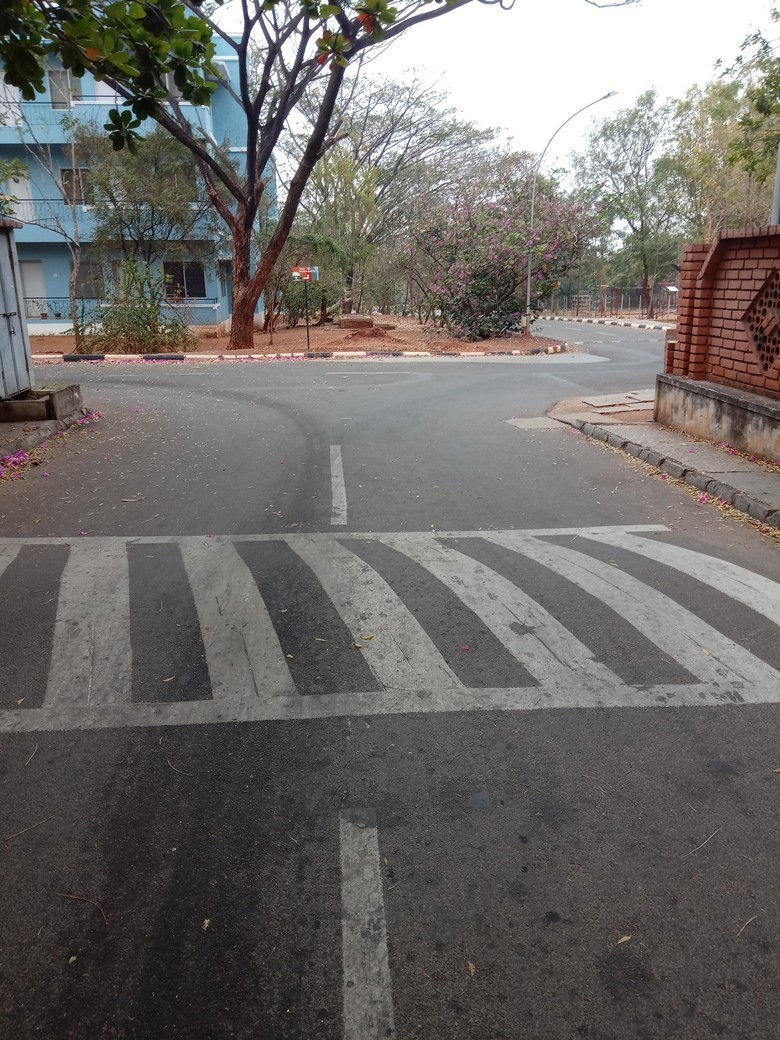bump: (1, 531, 780, 726)
